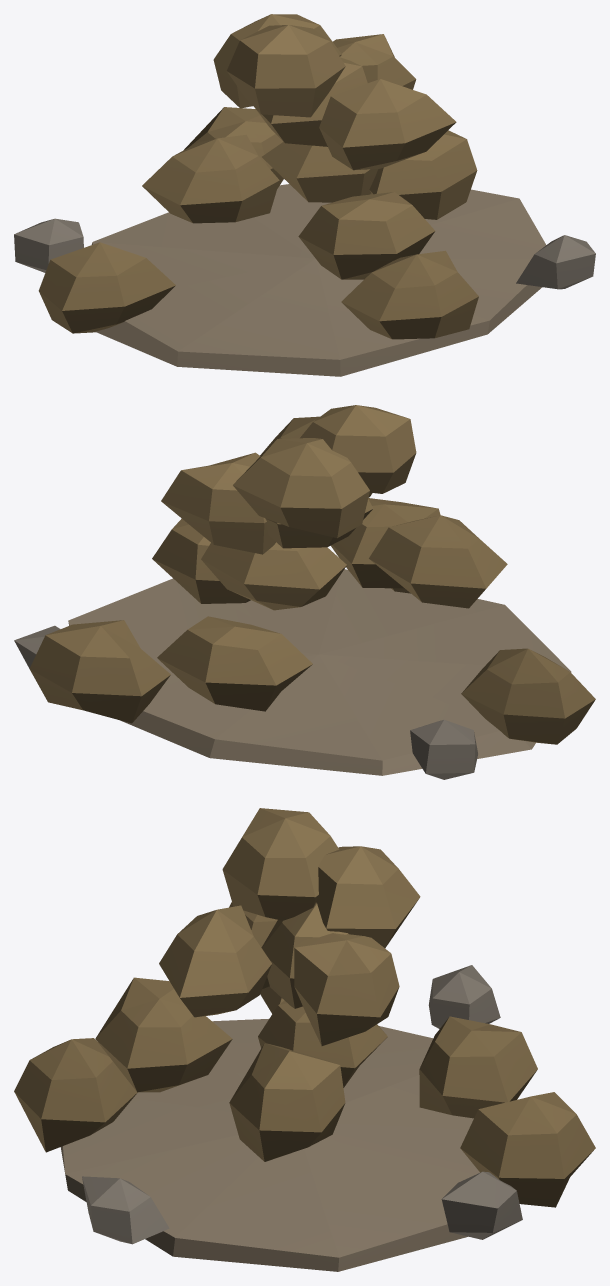
File: caral_shicra_stack_lod0.glb
3 views of the same model, one above another, from view 1: azimuth 30°, elevation 25°; view 2: azimuth 150°, elevation 25°; view 3: azimuth 270°, elevation 25° (orthographic). The views are drawn at different scales.
Parts seen in each view (by area): view 1: GEO-Arch_shicra_stack_LOD0; view 2: GEO-Arch_shicra_stack_LOD0; view 3: GEO-Arch_shicra_stack_LOD0.
Boxes of the visible parts, bbox=[...] form: GEO-Arch_shicra_stack_LOD0: bbox=[14, 14, 595, 376]; GEO-Arch_shicra_stack_LOD0: bbox=[14, 405, 595, 779]; GEO-Arch_shicra_stack_LOD0: bbox=[14, 808, 595, 1271].
Bounding box in the file's own units: 2.78 × 1.51 × 2.49.
